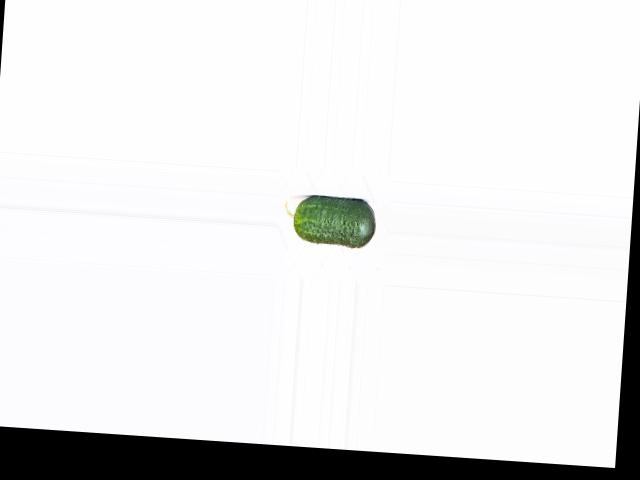cucumber: (282, 194, 377, 248)
